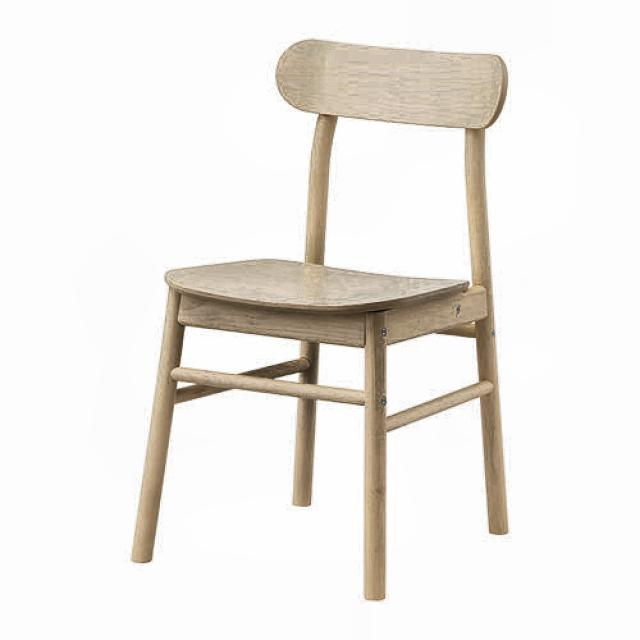cadeira: (121, 35, 519, 600)
